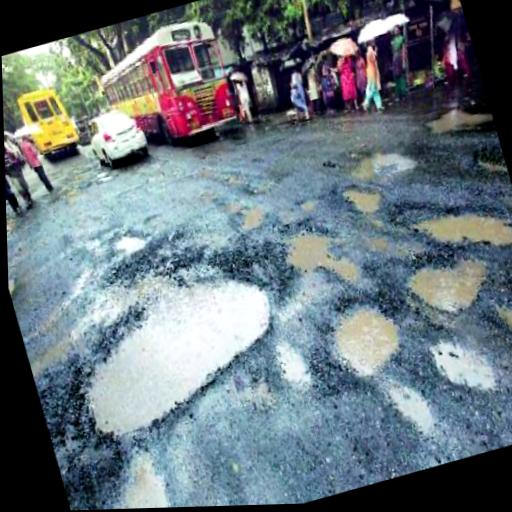pothole: (54, 255, 297, 445), (389, 171, 512, 275), (272, 207, 365, 301), (317, 289, 408, 381), (399, 242, 496, 325), (421, 321, 502, 410), (93, 437, 182, 510), (379, 365, 441, 445), (345, 134, 420, 187), (269, 331, 316, 396), (335, 172, 389, 224), (220, 190, 265, 235), (491, 291, 512, 371), (108, 227, 152, 257)
